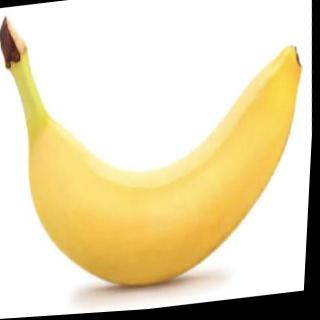banana: (18, 45, 315, 305)
